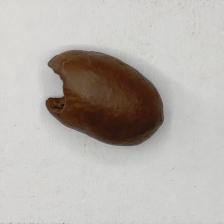NG: (39, 56, 72, 121)
